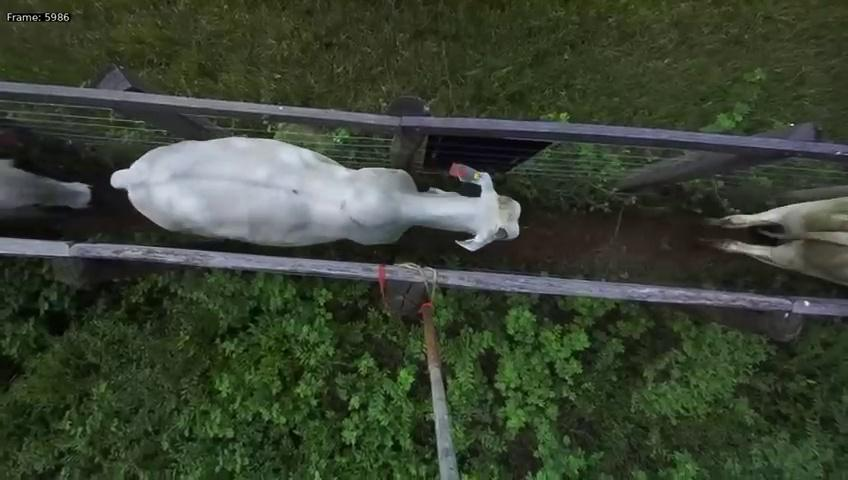cattle: (114, 128, 522, 254)
